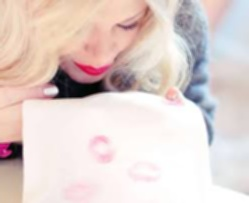lipstick: (84, 133, 118, 165), (126, 160, 163, 183), (63, 181, 95, 203)
